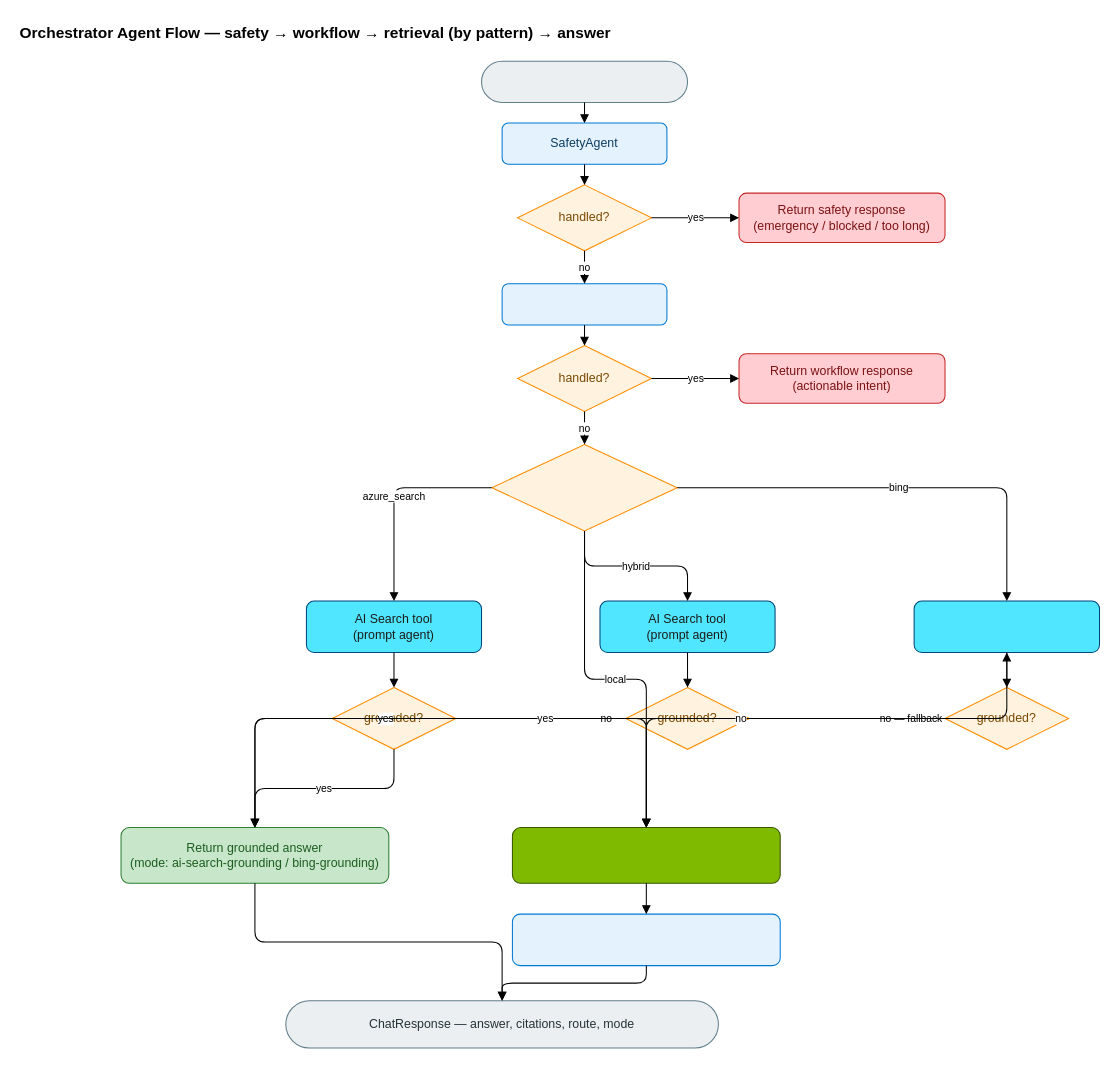
Image size: 1118x1066. Some labels were removed from this diagram. Each missing label, with the box of its shape:
Bing Custom Search grounding (prompt agent): (913, 600, 1100, 653)
Chat turn — message: (480, 60, 688, 102)
CitizenAssistantAgent (compose answer — Foundry or local): (511, 913, 780, 966)
RETRIEVAL_PATTERN ?: (491, 443, 677, 531)
RetrievalAgent (local county KB — safety net): (511, 827, 780, 883)
WorkflowAgent: (501, 283, 667, 325)
